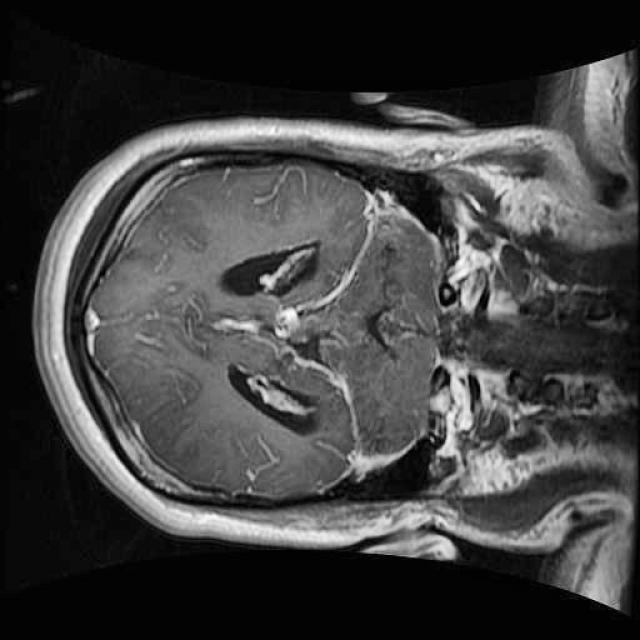Tumor: (196, 267, 316, 369)
